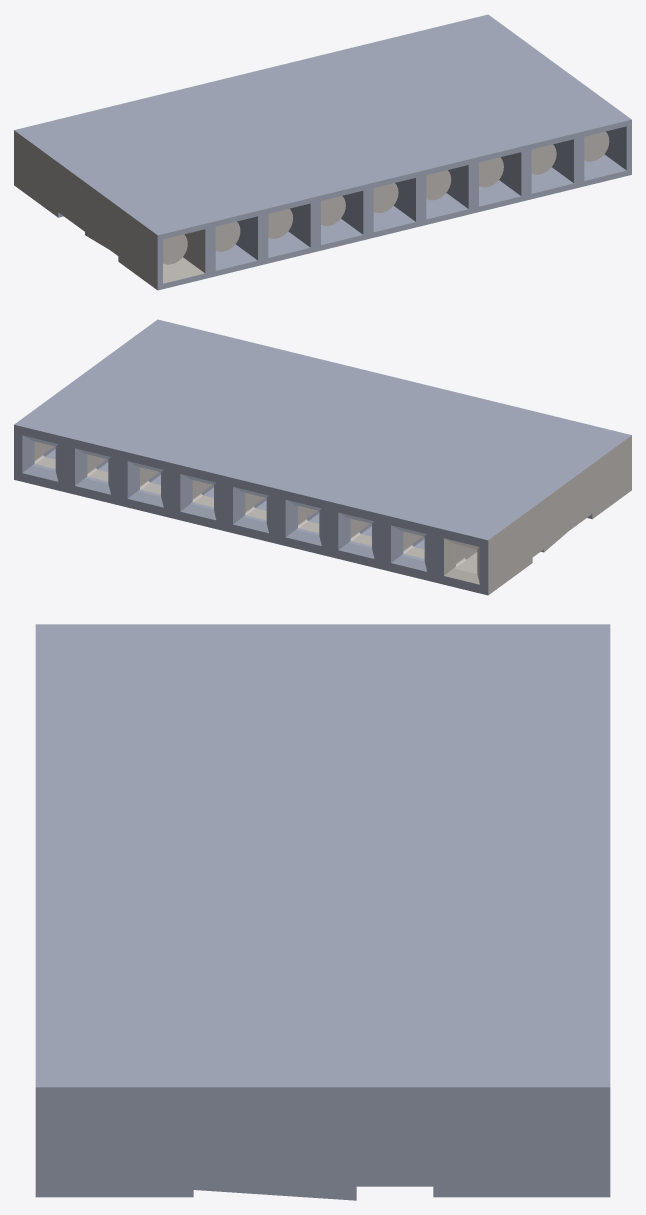
3 views of the same model, one above another, from view 1: azimuth 30°, elevation 25°; view 2: azimuth 150°, elevation 25°; view 3: azimuth 270°, elevation 25° (orthographic). The views are drawn at different scales.
Visible parts, largest first — view 1: DS1071-1x9; view 2: DS1071-1x9; view 3: DS1071-1x9.
Boxes of the visible parts, <box> form: DS1071-1x9: <box>14,14,631,290</box>; DS1071-1x9: <box>14,319,631,595</box>; DS1071-1x9: <box>35,624,610,1200</box>.
Bounding box in the file's own units: 0.0141 × 0.00172 × 0.00739.
